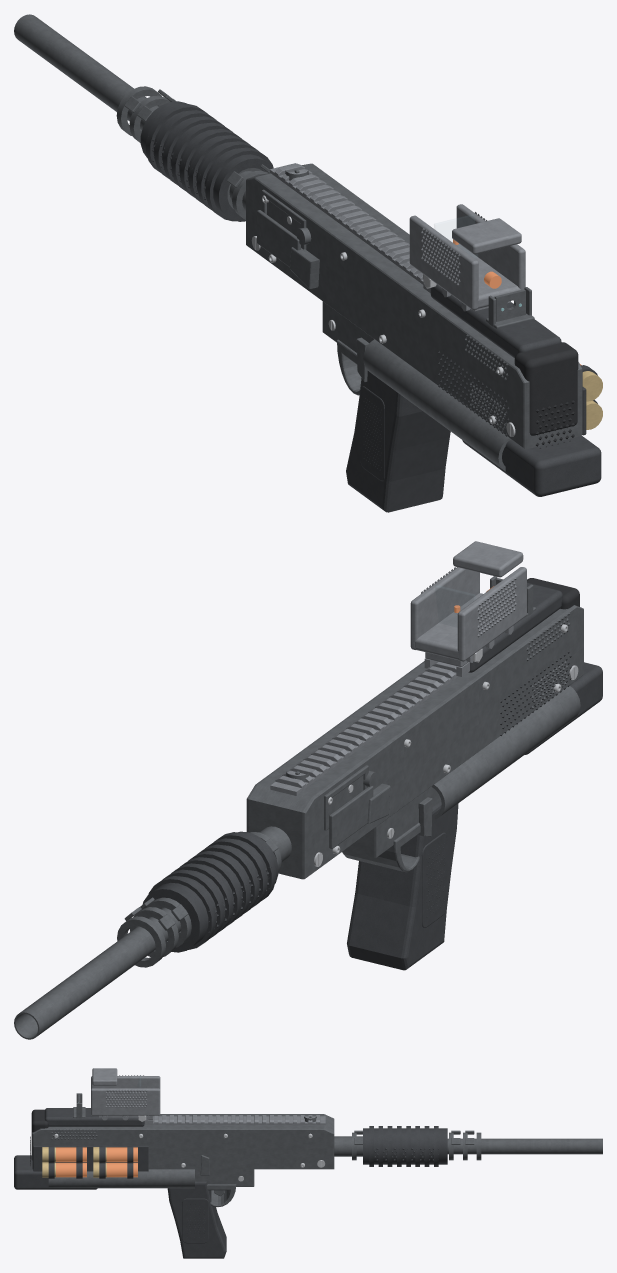
File: bullpup_shotgun.glb
3 renders of one model, top to bottom at view 1: azimuth 30°, elevation 25°; view 2: azimuth 150°, elevation 25°; view 3: azimuth 270°, elevation 25°, orthographic. The views are drawn at different scales.
Parts seen in each view (by area): view 1: Shotgun Finish; view 2: Shotgun Finish; view 3: Shotgun Finish.
Boxes of the visible parts, x1=… form: Shotgun Finish: x1=14, y1=14, x2=602, y2=512; Shotgun Finish: x1=14, y1=541, x2=602, y2=1039; Shotgun Finish: x1=14, y1=1068, x2=602, y2=1258.
Bounding box in the file's own units: 0.0816 × 0.2545 × 0.765.
9 materials, 6 textured.
